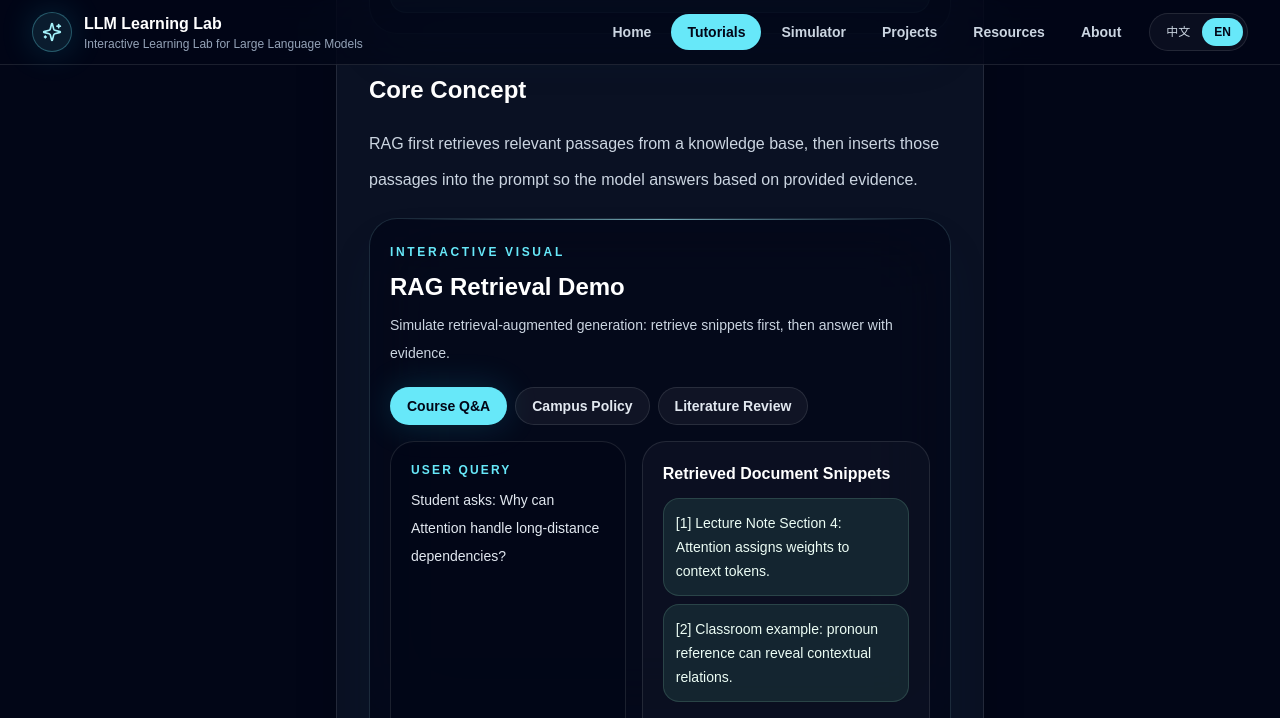
Scenario: LLM Learning Lab › renders translated tutorial article and interactive visual labels in English
(page scrolled)
Check: the heading "Core Concept" is shown, box [369,76,526,103]
Check: the heading "RAG Retrieval Demo" is shown, box [390,273,625,300]
What coordinates should you click on to do the following:
click the button "Campus Policy"
I would click on:
 (582, 406)
Its box is [515,387,650,425].
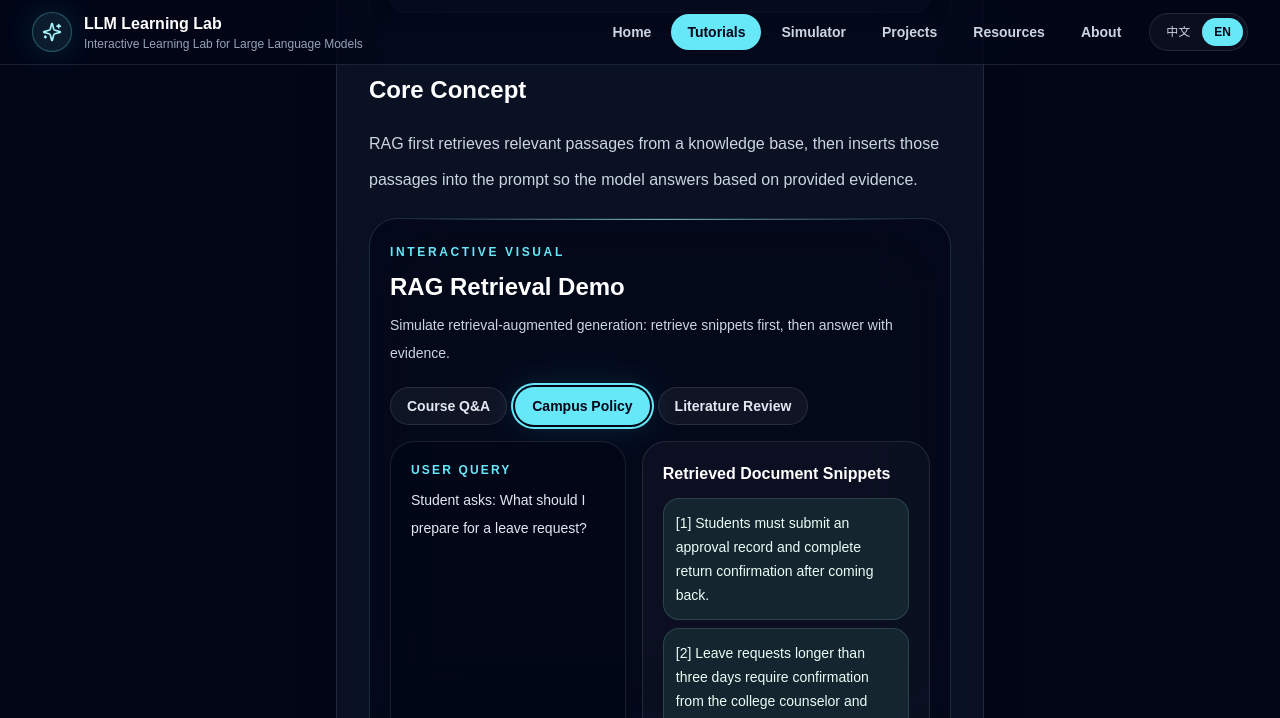
Check: the text "Retrieved Document Snippets" is shown, box [663,462,909,486]
Check: the text "Students must submit an approval record" is shown, box [676,515,873,603]
